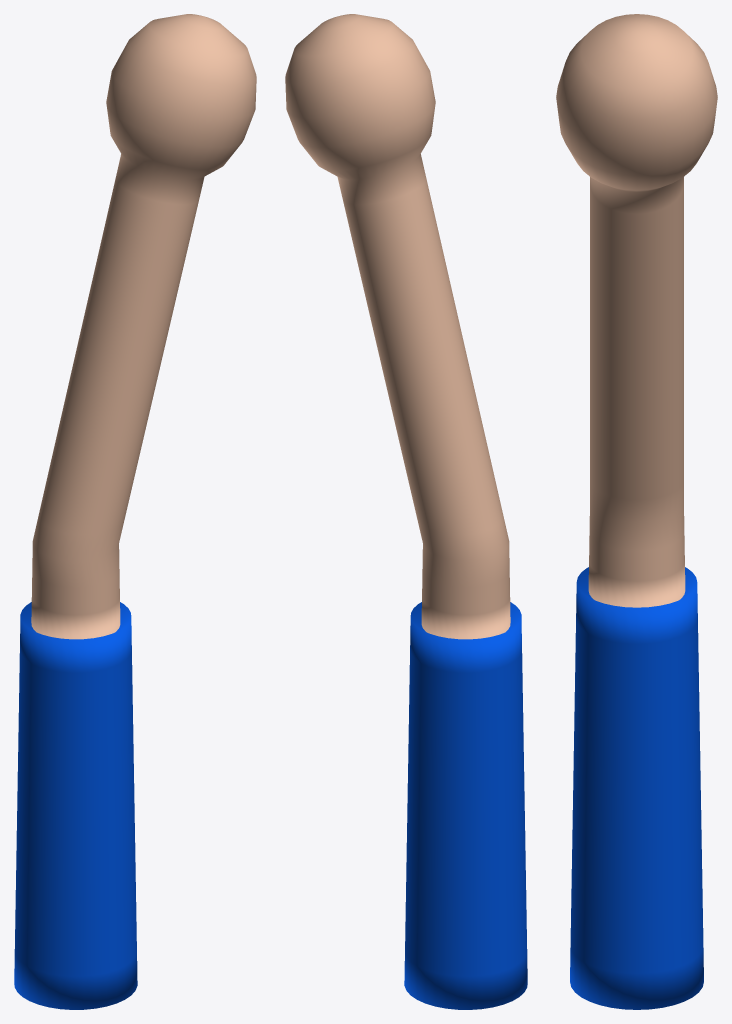
The picture shows the model from 3 angles, left to right: view 1: azimuth 30°, elevation 25°; view 2: azimuth 150°, elevation 25°; view 3: azimuth 270°, elevation 25°; orthographic projection. The views are drawn at different scales.
Visible parts, largest first — view 1: Cylinder; view 2: Cylinder; view 3: Cylinder.
Part boxes in pixels (x1=…): Cylinder: x1=14, y1=14, x2=256, y2=1009; Cylinder: x1=285, y1=14, x2=527, y2=1009; Cylinder: x1=556, y1=14, x2=717, y2=1009.
Size of the model in its own units: 518 by 2062 by 297.
